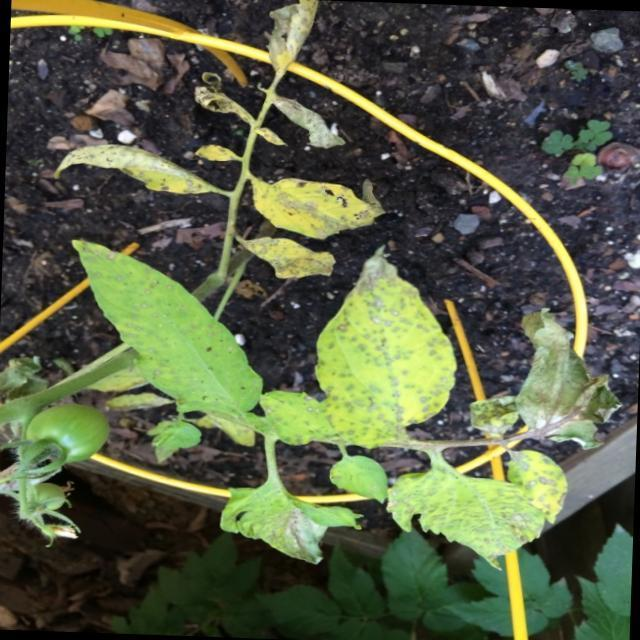Septoria: (64, 242, 245, 412), (318, 274, 452, 440), (393, 466, 540, 546), (503, 445, 566, 519)
